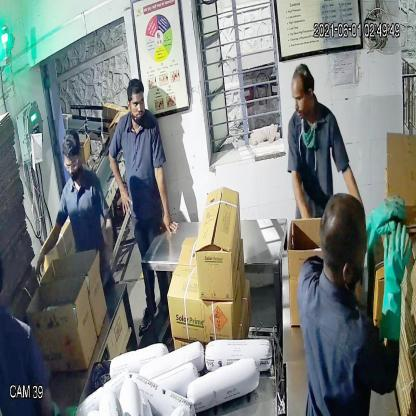goggles: (62, 154, 83, 176)
no_goggles: (284, 84, 318, 109), (126, 93, 148, 116)
